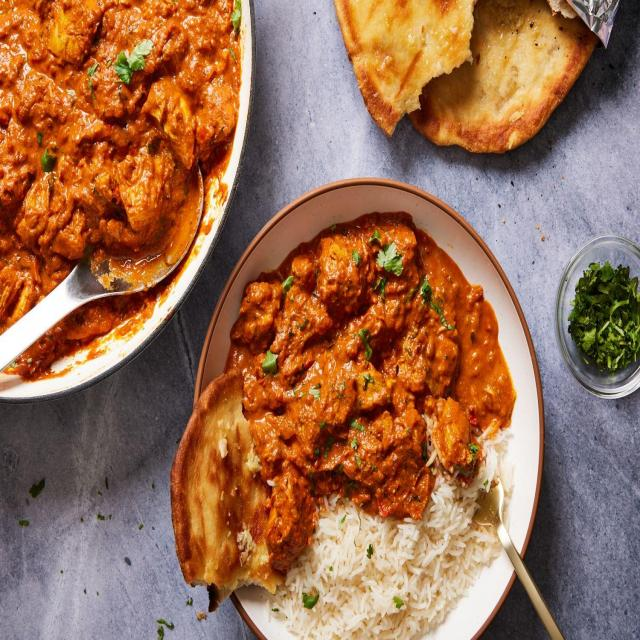chicken: (0, 12, 219, 376), (232, 234, 516, 486)
rice: (288, 510, 487, 623)
roti: (343, 4, 590, 147), (160, 395, 276, 590)
